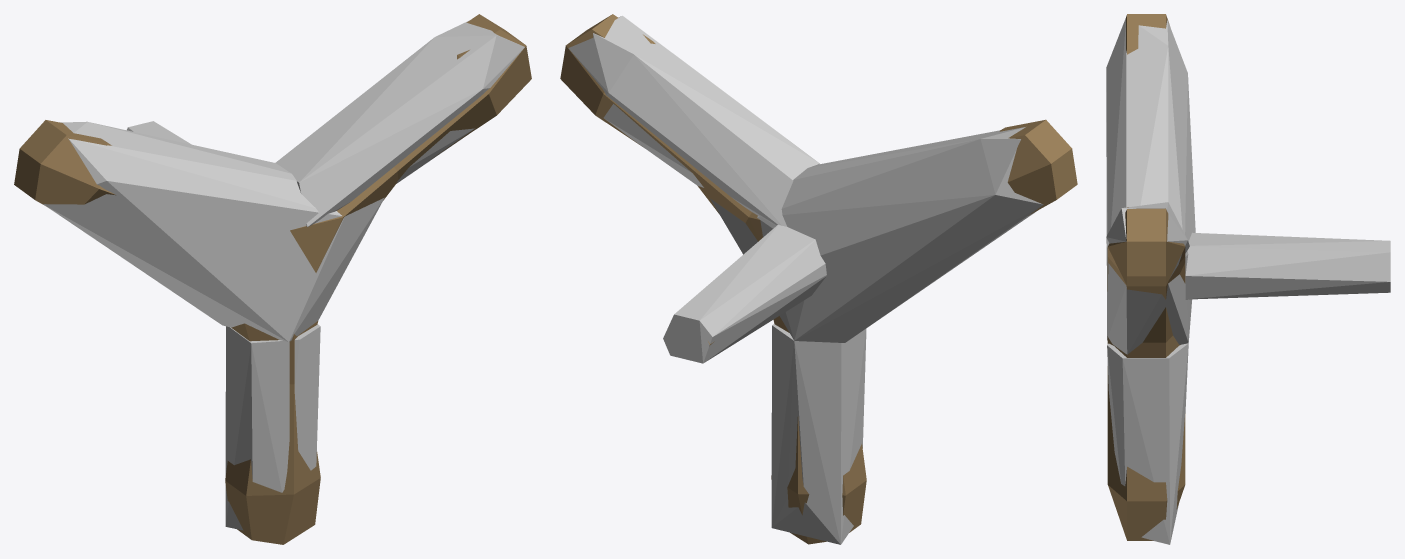
The model's file is SM_Prop_Sun_Dial_01_Handle_01.fbx.
3 views of the same model, side by side, from view 1: azimuth 30°, elevation 25°; view 2: azimuth 150°, elevation 25°; view 3: azimuth 270°, elevation 25° (orthographic). The views are drawn at different scales.
Visible parts, largest first — view 1: SM_Prop_Sun_Dial_01_Handle_01_ConvexHulls, SM_Prop_Sun_Dial_01_Handle_01; view 2: SM_Prop_Sun_Dial_01_Handle_01_ConvexHulls, SM_Prop_Sun_Dial_01_Handle_01; view 3: SM_Prop_Sun_Dial_01_Handle_01_ConvexHulls, SM_Prop_Sun_Dial_01_Handle_01.
Part boxes in pixels (box(x1,y1,x2,y2)): SM_Prop_Sun_Dial_01_Handle_01_ConvexHulls: box(43, 20, 524, 530); SM_Prop_Sun_Dial_01_Handle_01: box(14, 14, 531, 544); SM_Prop_Sun_Dial_01_Handle_01_ConvexHulls: box(568, 15, 1043, 544); SM_Prop_Sun_Dial_01_Handle_01: box(560, 14, 1077, 544); SM_Prop_Sun_Dial_01_Handle_01_ConvexHulls: box(1106, 18, 1390, 544); SM_Prop_Sun_Dial_01_Handle_01: box(1107, 14, 1185, 540).
Size of the model in its own units: 17.48 by 9.4 by 15.55.
2 materials, 1 textured.
